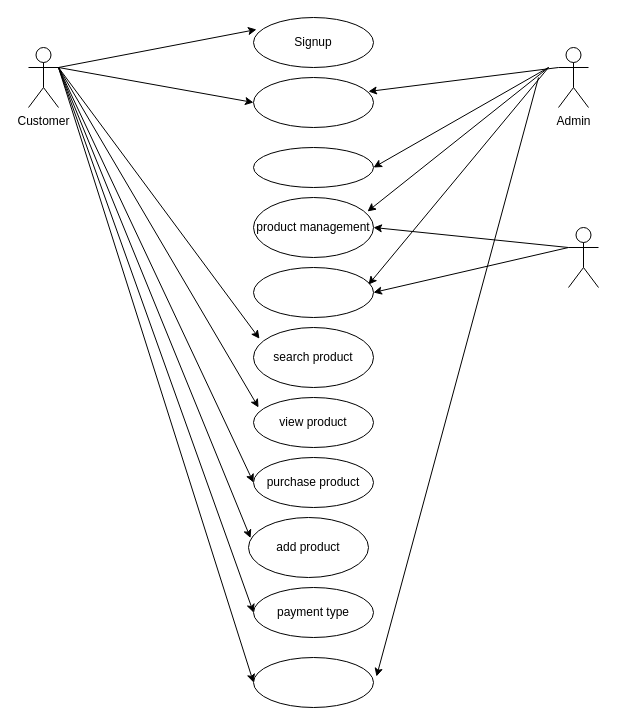
The diagram is 622 pixels wide and 725 high, and some of its shapes have lost their labels. Each missing label, with the centre of its shape:
"customer management" goes at pixel 313 167.
"login" goes at pixel 313 102.
"logout" goes at pixel 313 682.
"order management" goes at pixel 313 292.
"Supplier" goes at pixel 583 257.
